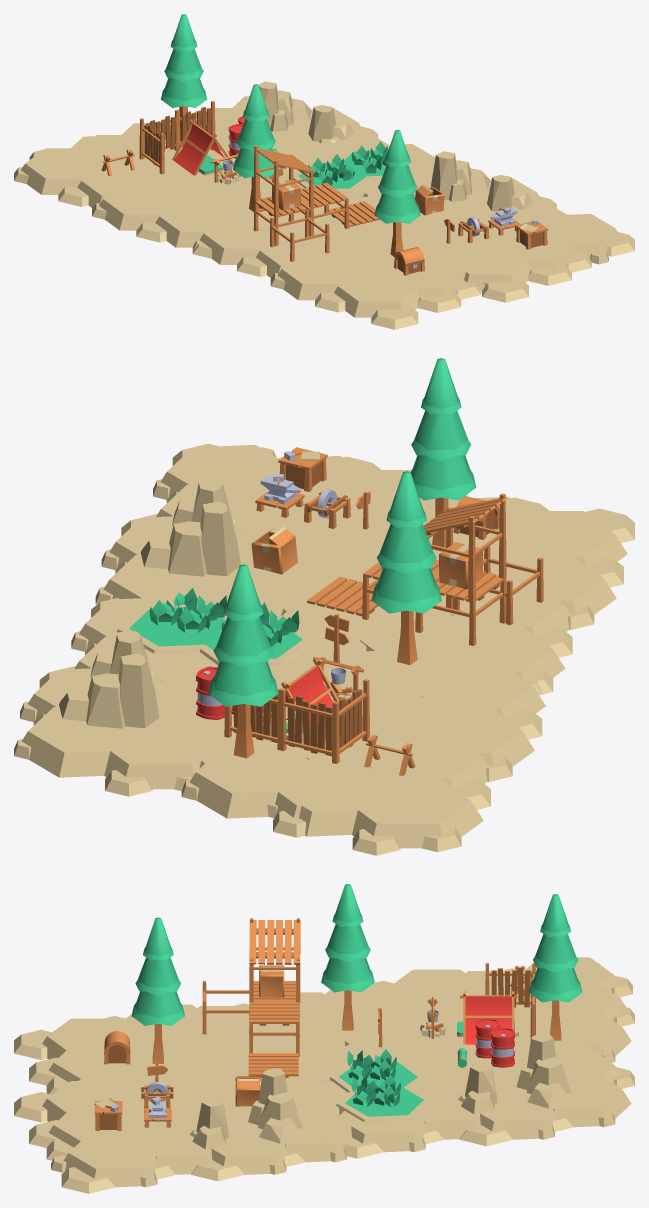
The model's file is map.glb.
3 renders of one model, top to bottom at view 1: azimuth 30°, elevation 25°; view 2: azimuth 150°, elevation 25°; view 3: azimuth 270°, elevation 25°, orthographic. The views are drawn at different scales.
Visible parts, largest first — view 1: Mesh rockFlat 52, Mesh rockFlat 50, Mesh rockFlat 56, Mesh rockFlat 1, Mesh rockFlat 13, Mesh rockFlat 58, Mesh rockFlat 55, Mesh rockFlat 2, Mesh treeLarge 11, Mesh treeLarge 23, Mesh rockFlat 51, Mesh treeLarge 9 (+39 smaller); view 2: Mesh rockFlat 13, Mesh rockFlat 8, Mesh rockFlat 14, Mesh rockFlat 2, Mesh rockFlat 52, Mesh treeLarge 9, Mesh treeLarge 23, Mesh treeLarge 11, Mesh rockFlat 55, Mesh rockFlat 12, Mesh rockFlat 45, Mesh rockFlat 1 (+48 smaller); view 3: Mesh rockFlat 58, Mesh rockFlat 52, Mesh rockFlat 50, Mesh rockFlat 14, Mesh rockFlat 8, Mesh rockFlat 45, Mesh rockFlat 51, Mesh rockFlat 10, Mesh rockFlat 57, Mesh treeLarge 9, Mesh treeLarge 23, Mesh treeLarge 11 (+41 smaller).
Boxes of the visible parts, left/top/right/bottom form: Mesh rockFlat 52: left=331, top=257, right=481, bottom=329; Mesh rockFlat 50: left=449, top=230, right=591, bottom=302; Mesh rockFlat 56: left=270, top=240, right=394, bottom=312; Mesh rockFlat 1: left=92, top=171, right=215, bottom=242; Mesh rockFlat 13: left=14, top=136, right=138, bottom=206; Mesh rockFlat 58: left=494, top=214, right=634, bottom=285; Mesh rockFlat 55: left=192, top=210, right=318, bottom=276; Mesh rockFlat 2: left=152, top=188, right=261, bottom=258; Mesh treeLarge 11: left=374, top=130, right=420, bottom=223; Mesh treeLarge 23: left=161, top=14, right=207, bottom=107; Mesh rockFlat 51: left=253, top=223, right=378, bottom=277; Mesh treeLarge 9: left=233, top=84, right=279, bottom=178; Mesh rockFlat 13: left=267, top=763, right=490, bottom=855; Mesh rockFlat 8: left=14, top=706, right=221, bottom=796; Mesh rockFlat 14: left=181, top=746, right=390, bottom=837; Mesh rockFlat 2: left=359, top=651, right=553, bottom=721; Mesh rockFlat 52: left=423, top=496, right=634, bottom=569; Mesh treeLarge 9: left=371, top=471, right=441, bottom=613; Mesh treeLarge 23: left=208, top=564, right=278, bottom=706; Mesh treeLarge 11: left=410, top=358, right=476, bottom=500; Mesh rockFlat 55: left=357, top=613, right=572, bottom=695; Mesh rockFlat 12: left=287, top=726, right=488, bottom=792; Mesh rockFlat 45: left=95, top=554, right=304, bottom=616; Mesh rockFlat 1: left=360, top=696, right=542, bottom=781; Mesh rockFlat 58: left=29, top=1109, right=163, bottom=1193; Mesh rockFlat 52: left=14, top=1018, right=148, bottom=1094; Mesh rockFlat 50: left=14, top=1081, right=144, bottom=1160; Mesh rockFlat 14: left=522, top=986, right=634, bottom=1062; Mesh rockFlat 8: left=528, top=1048, right=634, bottom=1131; Mesh rockFlat 45: left=259, top=1084, right=351, bottom=1166; Mesh rockFlat 51: left=176, top=1006, right=277, bottom=1066; Mesh rockFlat 10: left=459, top=1061, right=555, bottom=1146; Mesh rockFlat 57: left=191, top=1105, right=287, bottom=1181; Mesh treeLarge 9: left=321, top=884, right=374, bottom=992; Mesh treeLarge 23: left=529, top=894, right=582, bottom=1002; Mesh treeLarge 11: left=131, top=917, right=184, bottom=1025.
Size of the model in its own units: 5.3 by 1.71 by 6.09.
